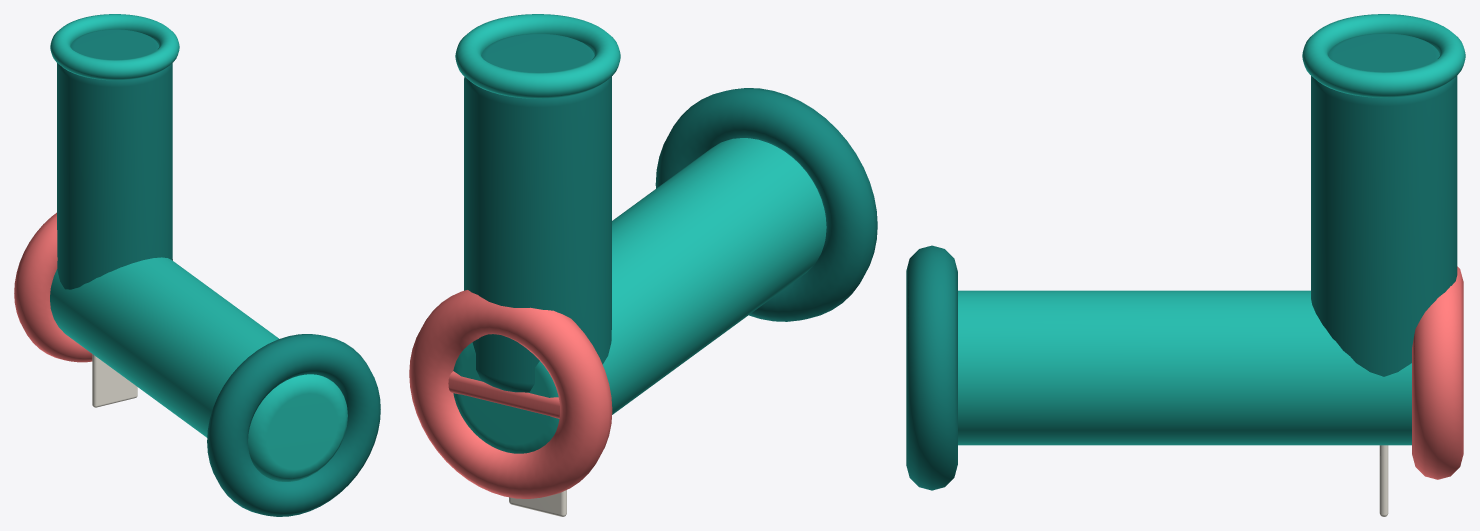
Rendered from GrowerTap.fbx.
The picture shows the model from 3 angles, left to right: view 1: azimuth 30°, elevation 25°; view 2: azimuth 150°, elevation 25°; view 3: azimuth 270°, elevation 25°; orthographic projection. The views are drawn at different scales.
Visible parts, largest first — view 1: GrowerTap mesh; view 2: GrowerTap mesh; view 3: GrowerTap mesh.
Boxes of the visible parts, x1,y1,x2,y2 form: GrowerTap mesh: (14,14,380,516); GrowerTap mesh: (409,14,877,516); GrowerTap mesh: (906,14,1465,516).
Size of the model in its own units: 0.114 by 0.236 by 0.26.
